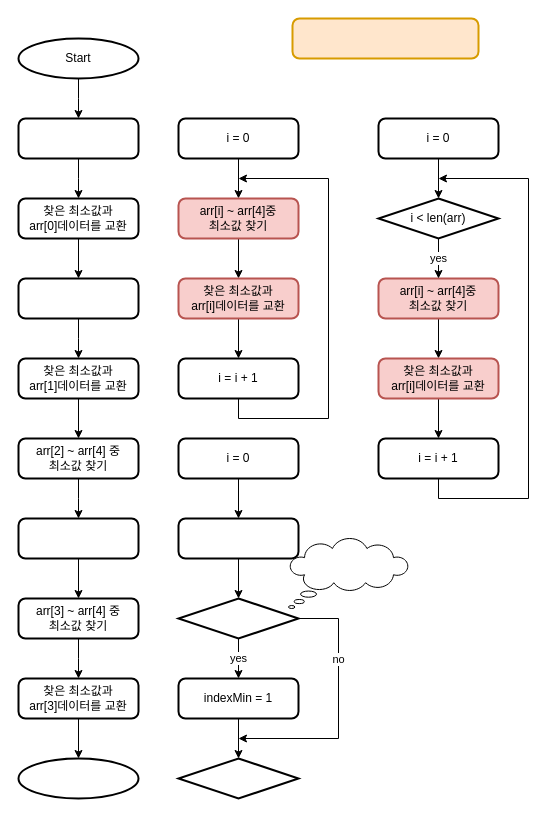
This 554x816 diagram has some shape labels left out. The shapes that lost their labels are listed below. From the top down, each one's centre as x and y in pixels, then its label:
the point at 385,38: 정렬 - 단순선택법
the point at 78,138: arr[0] ~ arr[4] 중 최소값 찾기
the point at 78,298: arr[1] ~ arr[4] 중 최소값 찾기
the point at 78,538: 찾은 최소값과 arr[2]데이터를 교환
the point at 238,538: i -> indexMin
the point at 348,573: 가장 작은 요소를 찾아 임시 변수에 반복하여 담는다
the point at 238,618: arr[1] < arr[indexMin]
the point at 78,778: End
the point at 238,778: arr[2] < arr[indexMin]
